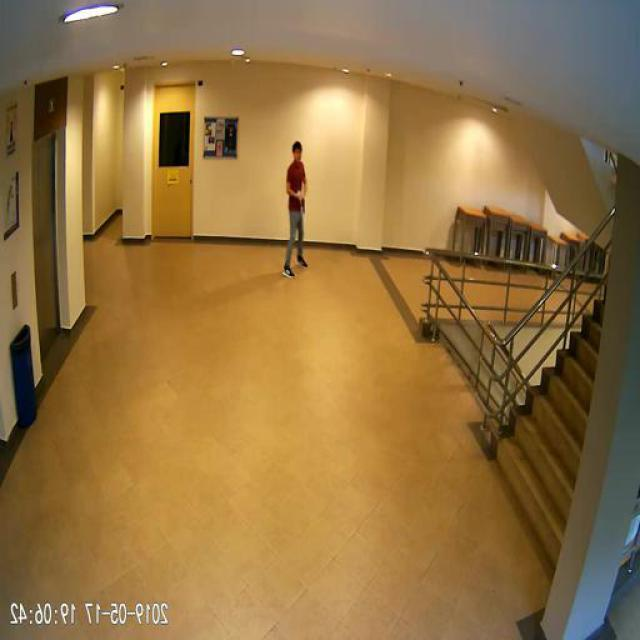Gun: (302, 192, 308, 212)
